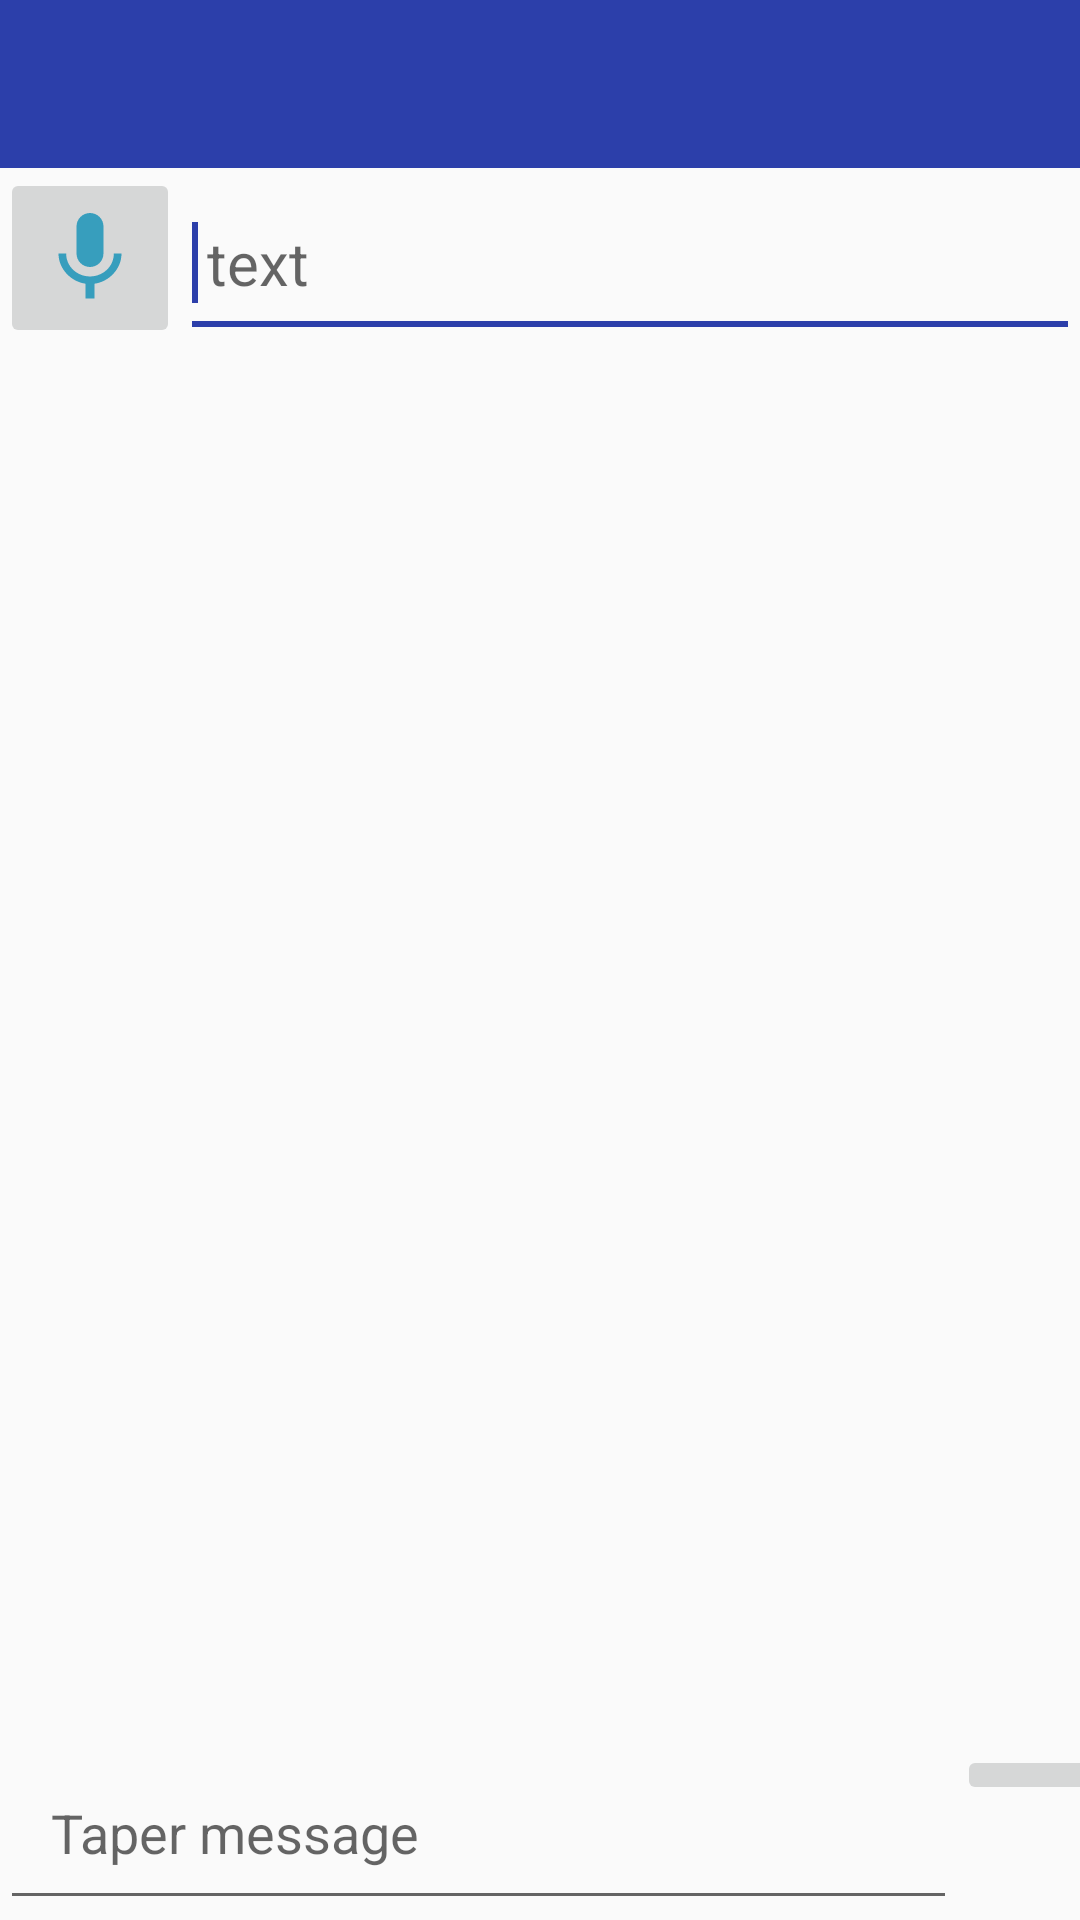

Screen size 1080px×1920px. Icon name, then its box in pixels as {"left": x1, "top": y1, "right": x2, "bottom": y2}:
mic: {"left": 12, "top": 186, "right": 168, "bottom": 330}
